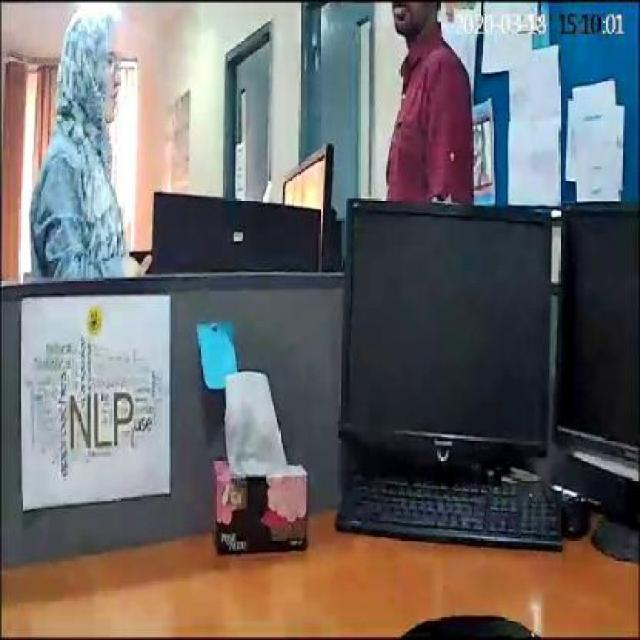spill: (398, 608, 532, 636)
